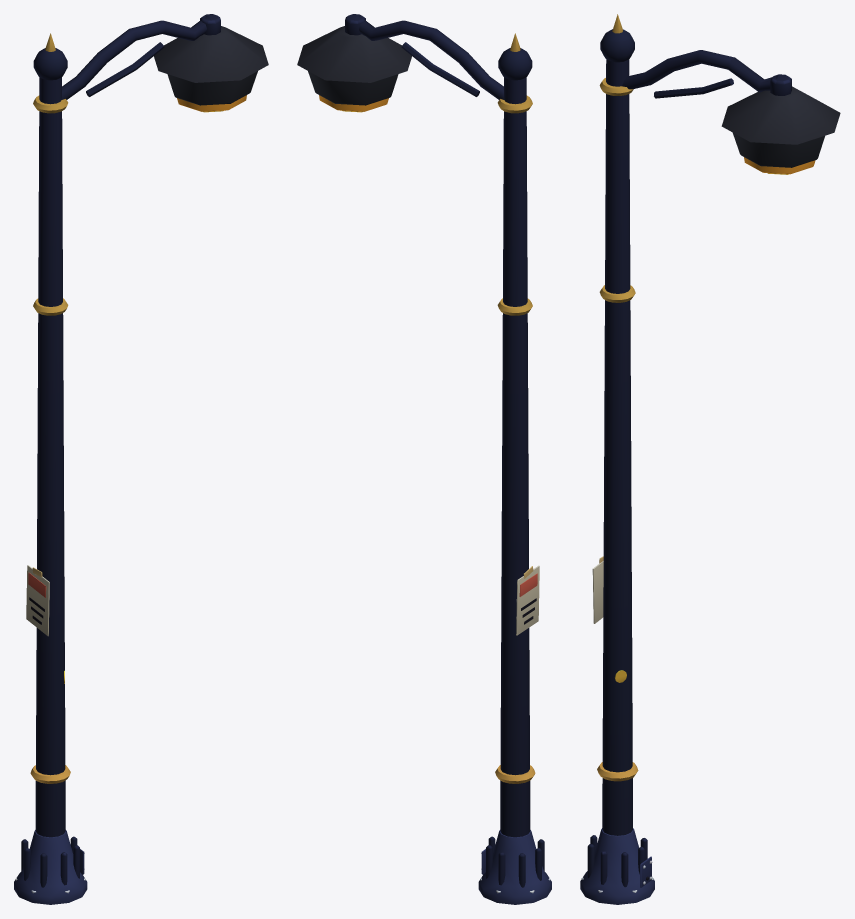
The model's file is SM_Prop_StreetLamp.fbx.
3 renders of one model, left to right at view 1: azimuth 30°, elevation 25°; view 2: azimuth 150°, elevation 25°; view 3: azimuth 330°, elevation 25°, orthographic. The views are drawn at different scales.
Visible parts, largest first — view 1: SM_Prop_StreetLamp; view 2: SM_Prop_StreetLamp; view 3: SM_Prop_StreetLamp.
Part boxes in pixels (left/top/right/bottom): SM_Prop_StreetLamp: left=14, top=14, right=268, bottom=904; SM_Prop_StreetLamp: left=297, top=14, right=551, bottom=904; SM_Prop_StreetLamp: left=580, top=14, right=840, bottom=904.
Bounding box in the file's own units: 131 × 440 × 56.14.
